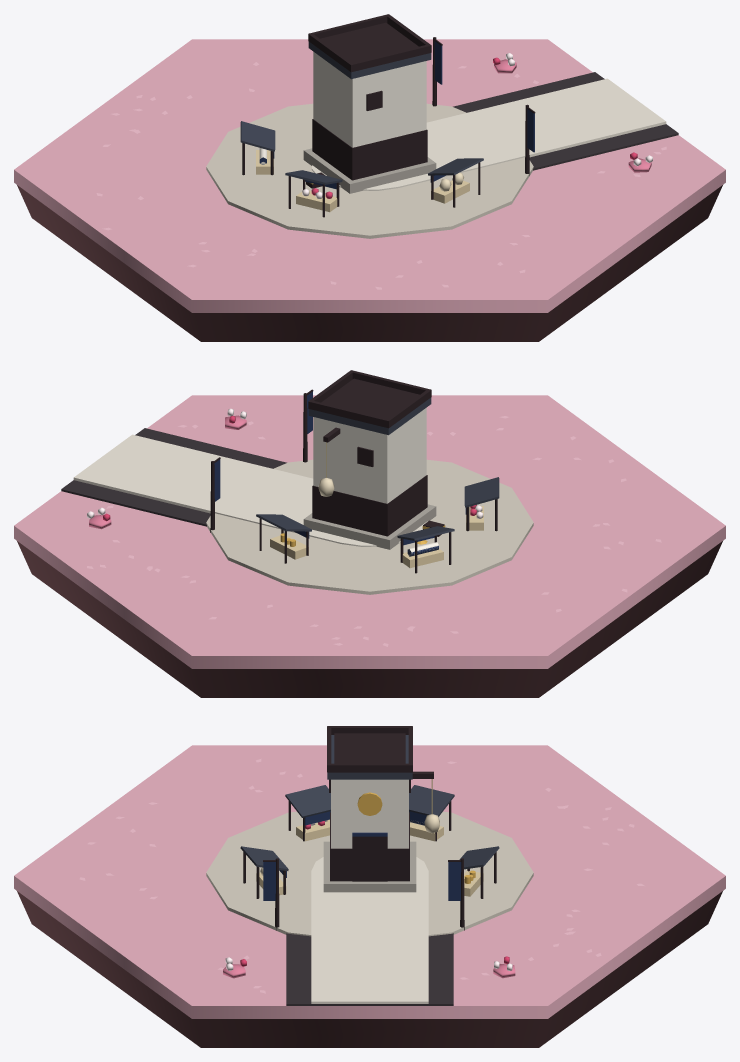
File: tile_base_merchant.glb
The picture shows the model from 3 angles, top to bottom: view 1: azimuth 30°, elevation 25°; view 2: azimuth 150°, elevation 25°; view 3: azimuth 270°, elevation 25°; orthographic projection.
Visible parts, largest first — view 1: ground, ground_soil, courtyard, road, warehouse_body, warehouse_skirt, warehouse, warehouse_deck, warehouse_plinth, warehouse_cornice, stall_1_awning, deco_petals (+1 smaller); view 2: ground, ground_soil, courtyard, road, warehouse_body, warehouse_skirt, warehouse, warehouse_deck, warehouse_plinth, warehouse_cornice, stall_2_awning, deco_petals (+1 smaller); view 3: ground, ground_soil, road, courtyard, warehouse_body, warehouse_deck, warehouse, warehouse_plinth, warehouse_door, warehouse_skirt, stall_2_awning, stall_1_awning (+3 smaller).
Boxes of the visible parts, <box> form: ground: <box>14,39,725,312</box>; ground_soil: <box>17,185,722,341</box>; courtyard: <box>206,103,533,238</box>; road: <box>394,72,678,187</box>; warehouse_body: <box>313,52,426,147</box>; warehouse_skirt: <box>312,119,427,180</box>; warehouse: <box>308,14,431,72</box>; warehouse_deck: <box>320,22,418,62</box>; warehouse_plinth: <box>303,148,436,193</box>; warehouse_cornice: <box>308,41,431,79</box>; stall_1_awning: <box>240,121,275,151</box>; deco_petals: <box>96,62,666,289</box>; ground: <box>14,395,725,668</box>; ground_soil: <box>17,541,722,697</box>; courtyard: <box>206,459,533,594</box>; road: <box>61,428,345,543</box>; warehouse_body: <box>313,408,426,503</box>; warehouse_skirt: <box>312,475,427,536</box>; warehouse: <box>308,370,431,428</box>; warehouse_deck: <box>321,378,419,418</box>; warehouse_plinth: <box>303,504,436,549</box>; warehouse_cornice: <box>308,397,431,435</box>; stall_2_awning: <box>464,477,499,507</box>; deco_petals: <box>87,416,661,646</box>; ground: <box>14,745,725,1018</box>; ground_soil: <box>17,891,722,1047</box>; road: <box>286,871,453,1005</box>; courtyard: <box>206,811,533,936</box>; warehouse_body: <box>331,779,408,848</box>; warehouse_deck: <box>334,733,405,763</box>; warehouse: <box>327,726,412,772</box>; warehouse_plinth: <box>323,841,416,892</box>; warehouse_door: <box>352,836,387,881</box>; warehouse_skirt: <box>330,812,409,881</box>; stall_2_awning: <box>285,785,330,817</box>; stall_1_awning: <box>409,785,454,816</box>.
Bounding box in the file's own units: 1.73 × 0.553 × 2.
